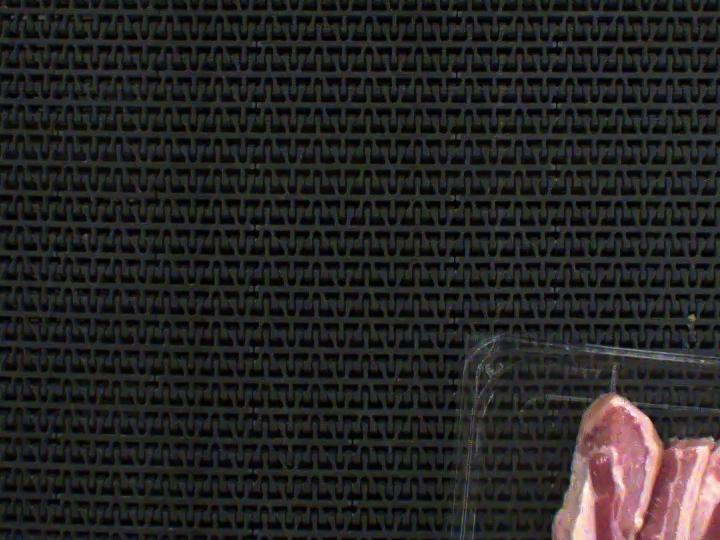packaging-error: (607, 358, 623, 394)
